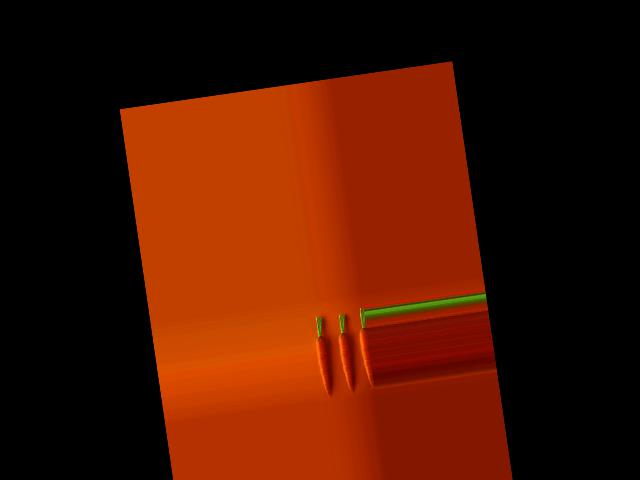carrot: (354, 306, 372, 379)
